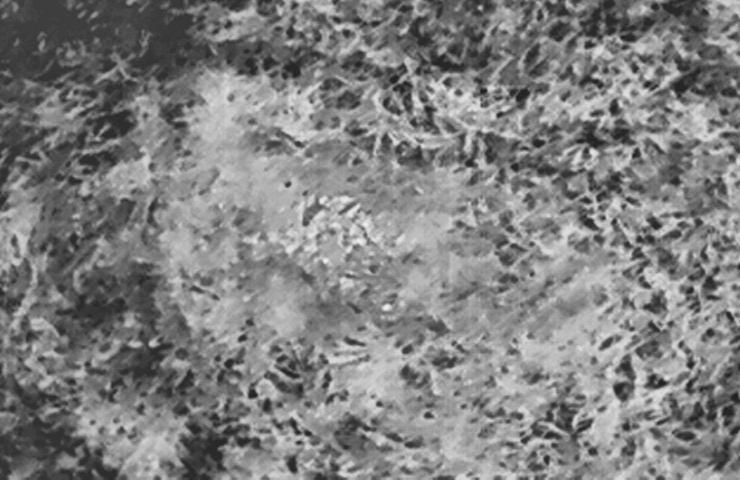landmines: (274, 192, 398, 294)
